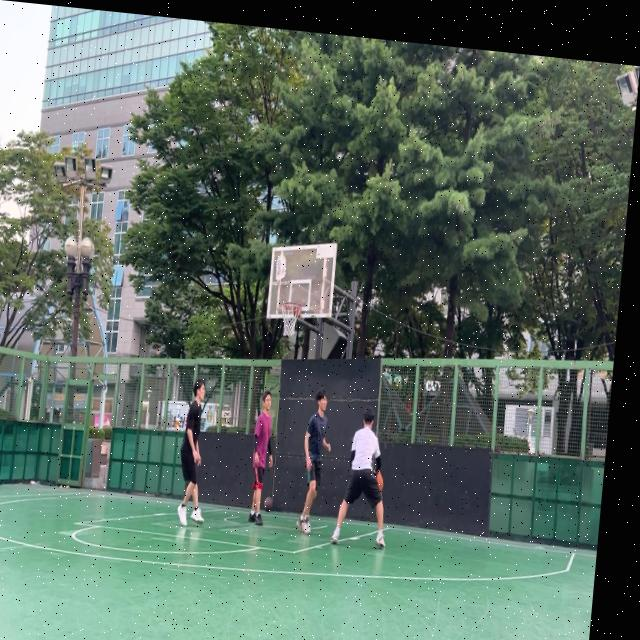basketball: (375, 470, 384, 492), (264, 496, 274, 513)
hoop: (278, 300, 303, 339)
